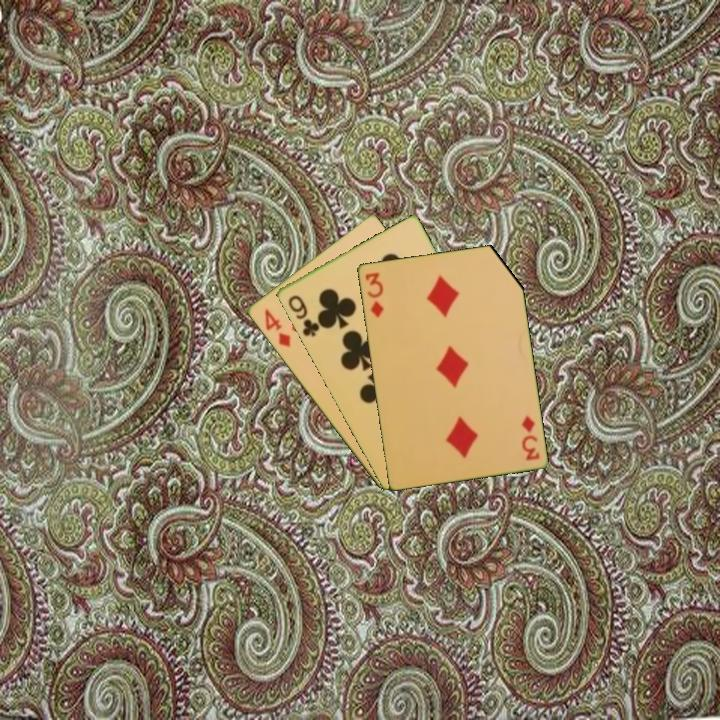3d: (517, 411, 542, 463), (361, 269, 386, 320)
4d: (260, 305, 293, 350)
9c: (284, 291, 322, 340)
